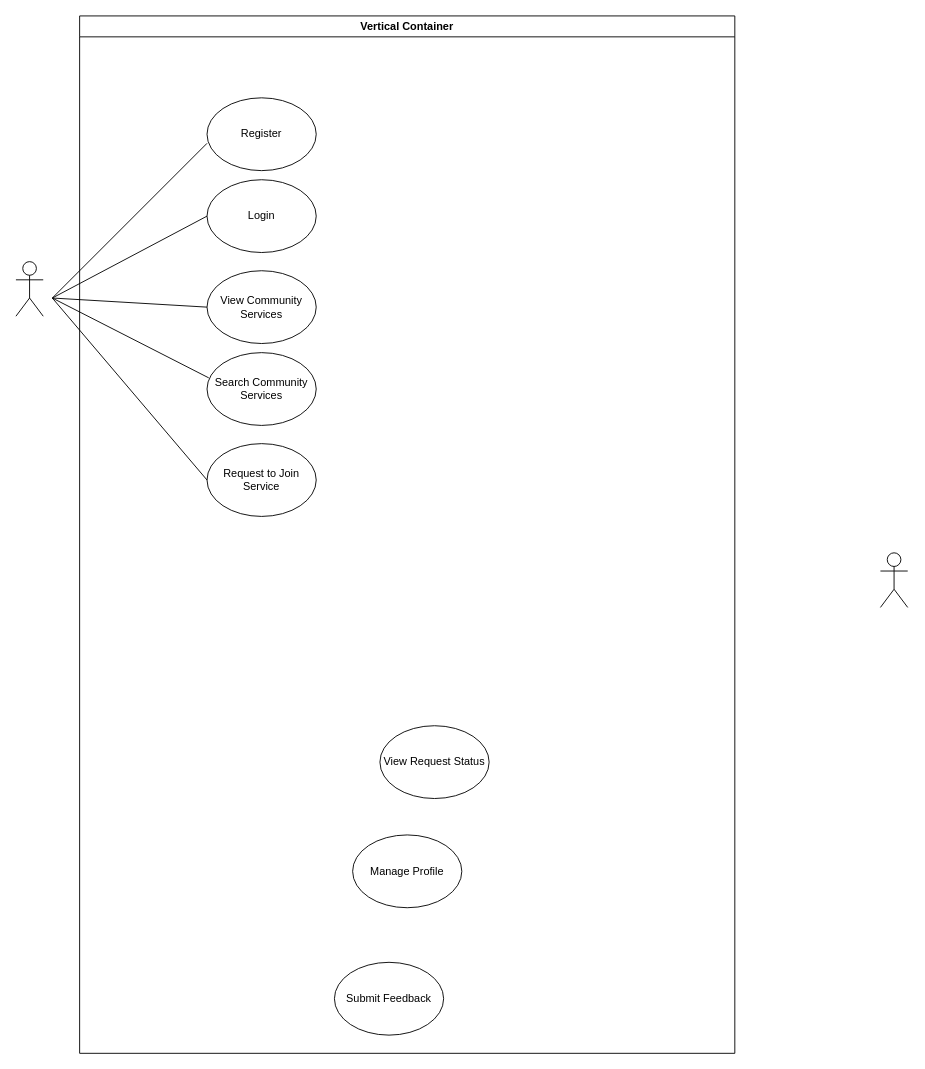
Image size: 925x1069. Some labels were removed from this diagram. Here are the shapes that lost their labels. From the top down, the centre of each, then its label:
At pixel 29 288: "User".
At pixel 894 579: "Admin".
